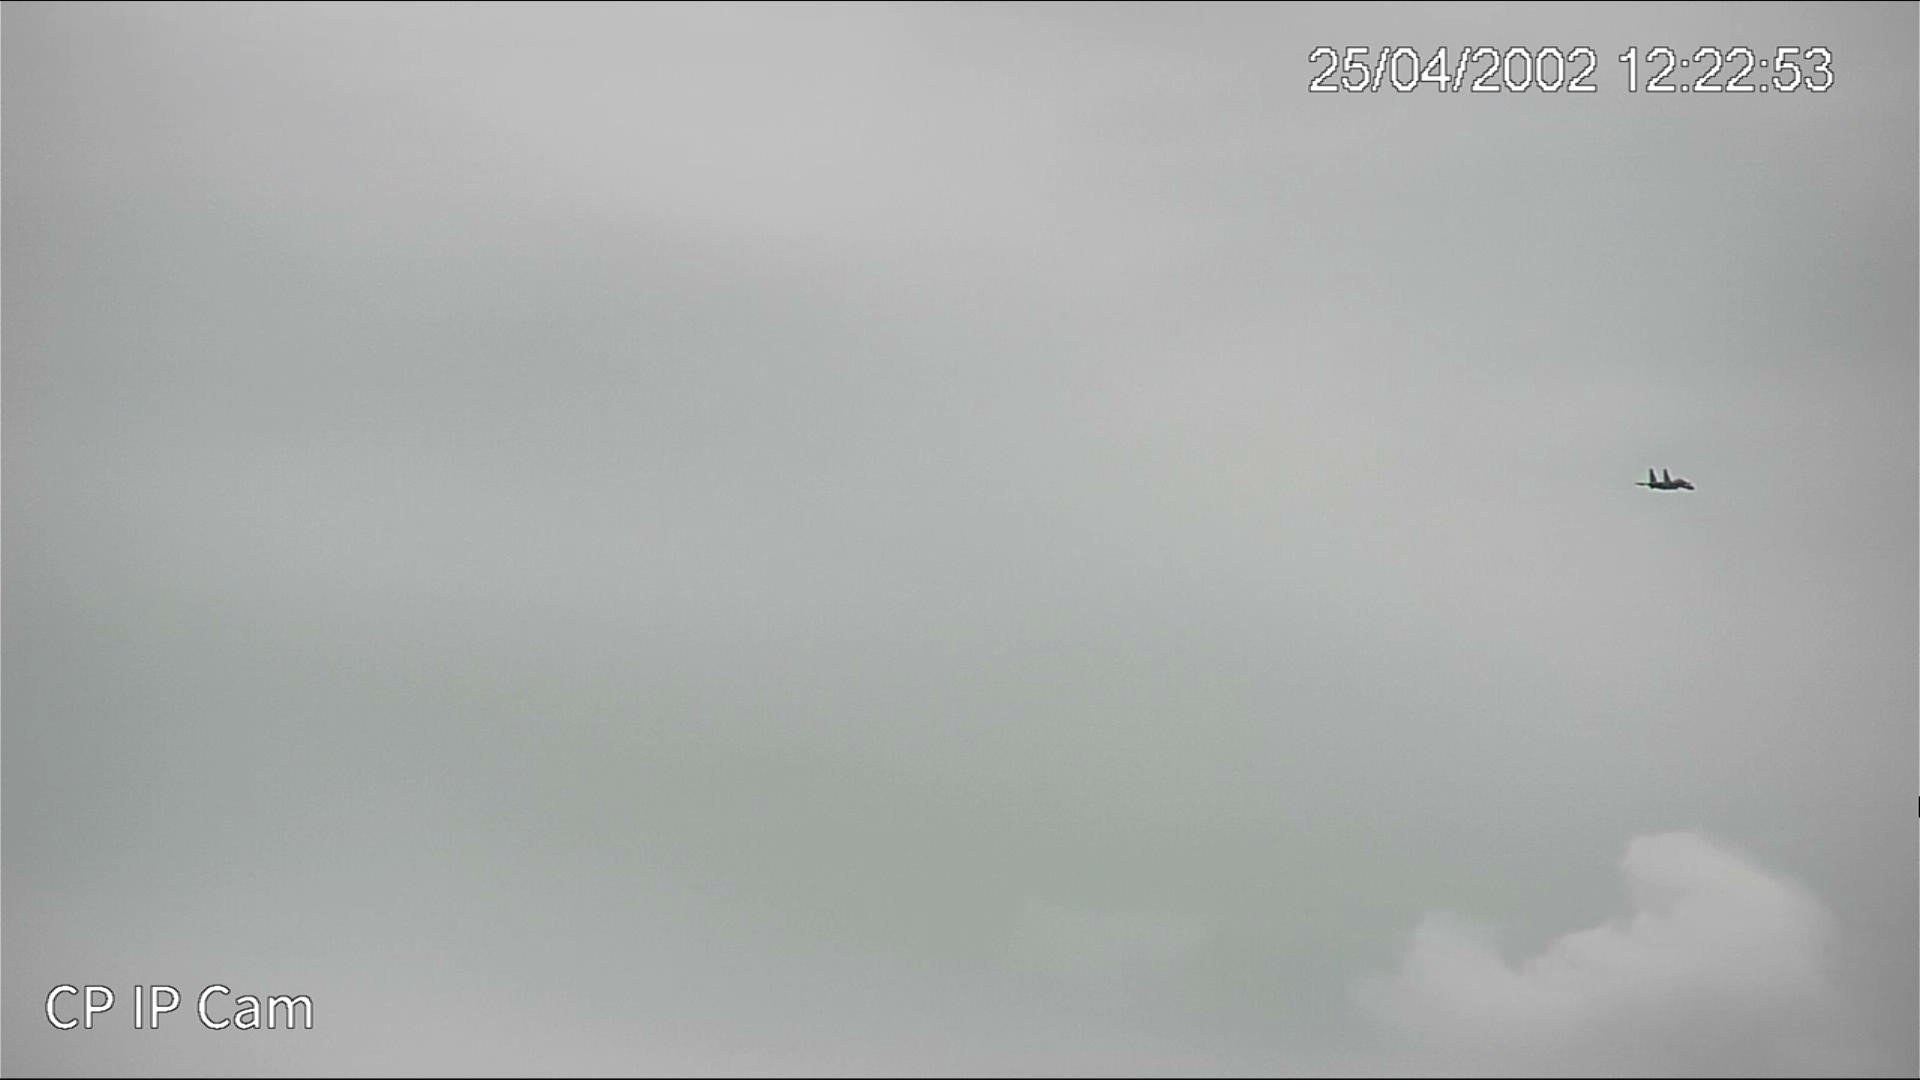SU_30: (1634, 467, 1696, 492)
